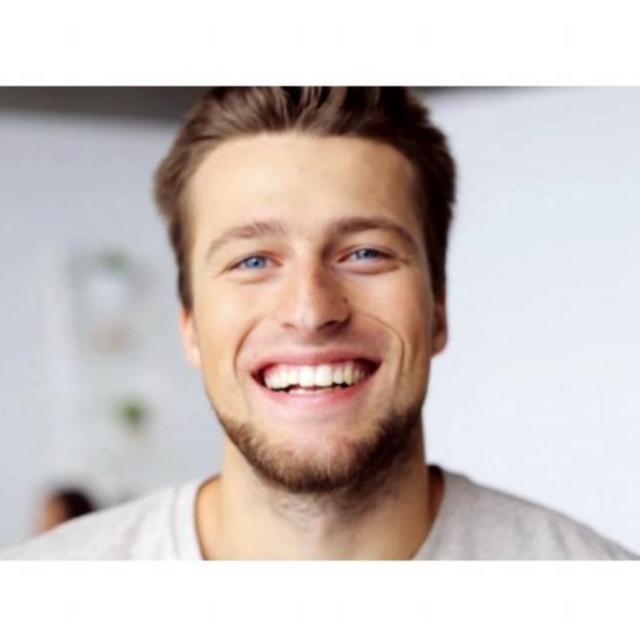live: (177, 104, 435, 482)
